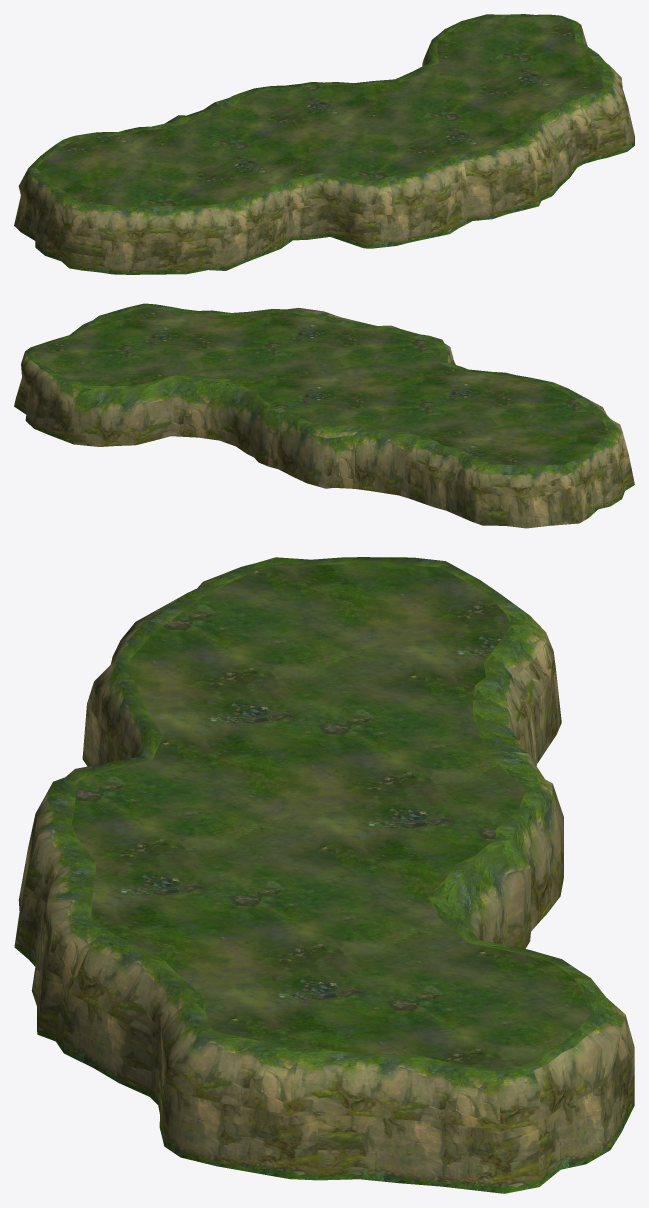
File: block_hill_01.FBX
The picture shows the model from 3 angles, top to bottom: view 1: azimuth 30°, elevation 25°; view 2: azimuth 150°, elevation 25°; view 3: azimuth 270°, elevation 25°; orthographic projection. The views are drawn at different scales.
Visible parts, largest first — view 1: forest_s3_boss_huangmanbuluo_02, forest_s3_boss_huangmanbuluo_01; view 2: forest_s3_boss_huangmanbuluo_02, forest_s3_boss_huangmanbuluo_01; view 3: forest_s3_boss_huangmanbuluo_02, forest_s3_boss_huangmanbuluo_01.
Boxes of the visible parts, bbox=[...] form: forest_s3_boss_huangmanbuluo_02: bbox=[36, 17, 603, 206]; forest_s3_boss_huangmanbuluo_01: bbox=[14, 14, 634, 274]; forest_s3_boss_huangmanbuluo_02: bbox=[34, 307, 608, 465]; forest_s3_boss_huangmanbuluo_01: bbox=[14, 303, 634, 528]; forest_s3_boss_huangmanbuluo_02: bbox=[72, 562, 588, 1068]; forest_s3_boss_huangmanbuluo_01: bbox=[14, 557, 634, 1193].
Size of the model in its own units: 33.85 by 16.29 by 3.1.
